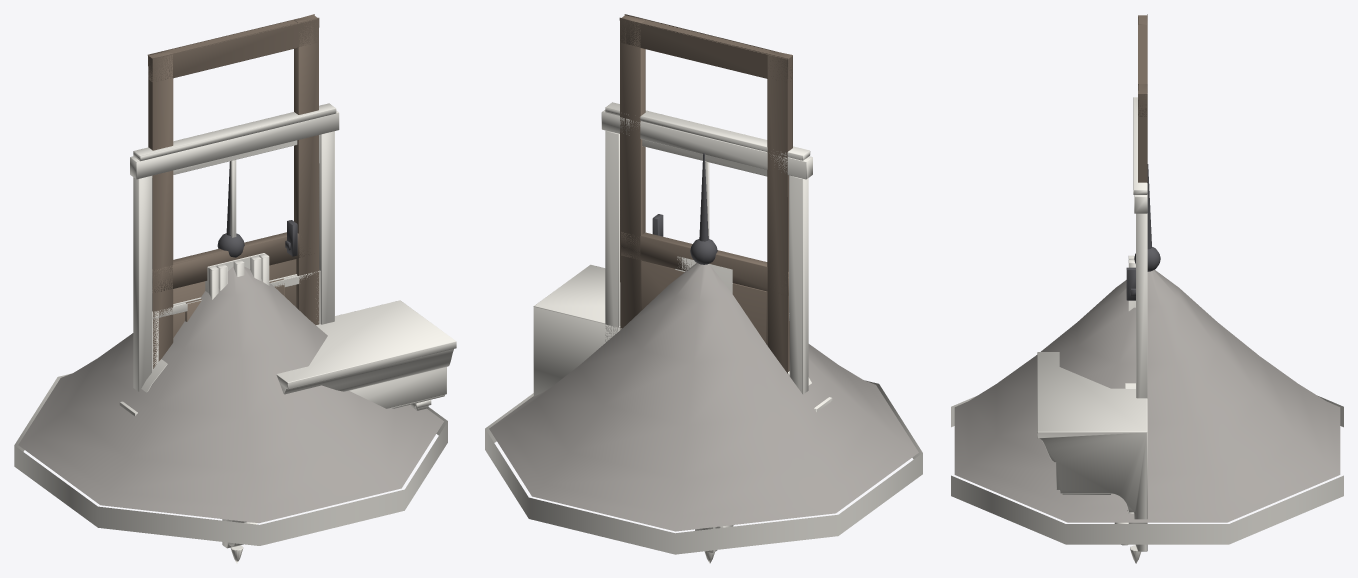
Rendered from downtown-kit.glb.
The picture shows the model from 3 angles, left to right: view 1: azimuth 30°, elevation 25°; view 2: azimuth 150°, elevation 25°; view 3: azimuth 270°, elevation 25°; orthographic projection. The views are drawn at different scales.
Visible parts, largest first — view 1: turret-roof, door, window, cornice, pilaster-shaft; view 2: turret-roof, door, window, cornice; view 3: turret-roof, cornice, window, door.
Boxes of the visible parts, x1=… form: turret-roof: x1=14, y1=161, x2=447, y2=545; door: x1=147, y1=14, x2=319, y2=368; window: x1=130, y1=103, x2=339, y2=391; cornice: x1=276, y1=300, x2=456, y2=410; pilaster-shaft: x1=205, y1=253, x2=269, y2=299; turret-roof: x1=485, y1=153, x2=922, y2=554; door: x1=619, y1=14, x2=792, y2=373; window: x1=601, y1=102, x2=812, y2=394; cornice: x1=533, y1=264, x2=621, y2=396; turret-roof: x1=951, y1=164, x2=1343, y2=544; cornice: x1=1037, y1=352, x2=1147, y2=519; window: x1=1133, y1=97, x2=1147, y2=398; door: x1=1126, y1=14, x2=1147, y2=300.
Size of the model in its own units: 2.07 by 2.97 by 2.07.
